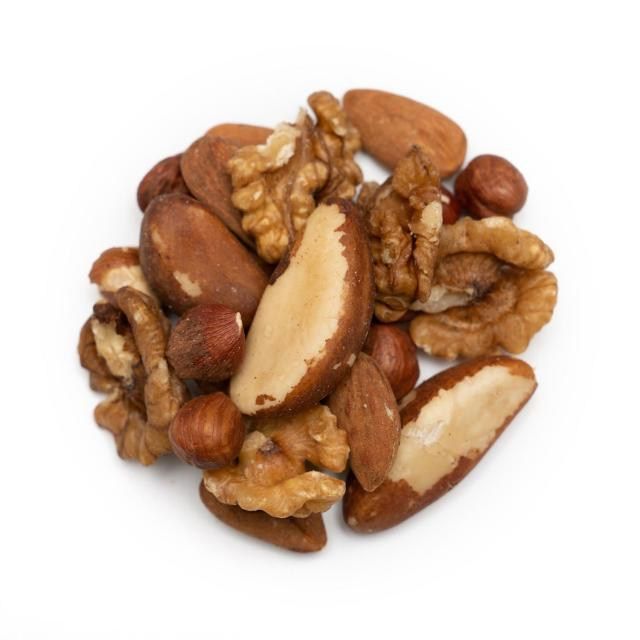Frutta secca: (80, 91, 558, 552)
